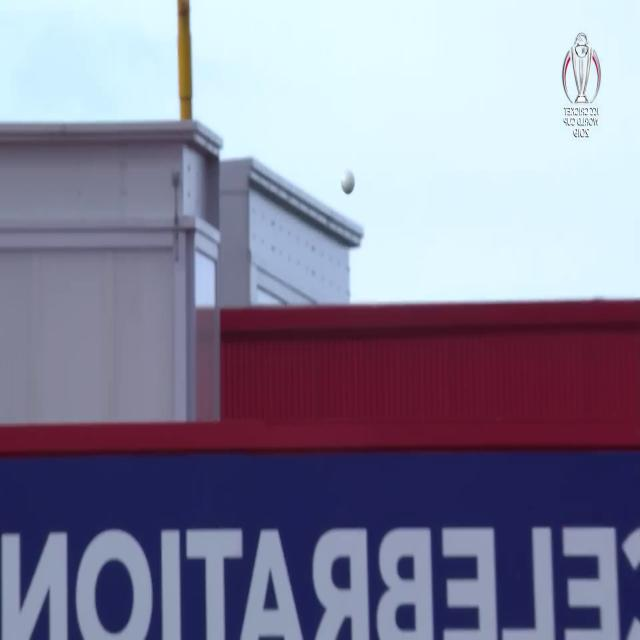ball: (336, 165, 358, 202)
